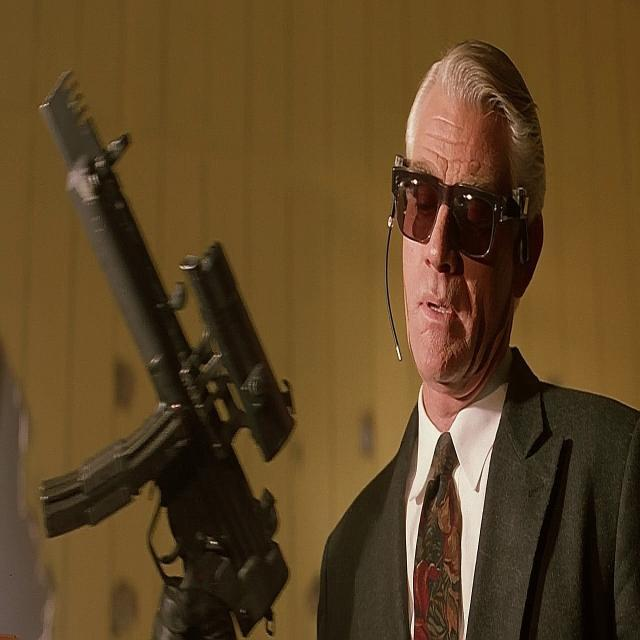gun-knife-thesis - v11 Yolov5 augmented: (33, 52, 282, 640)
